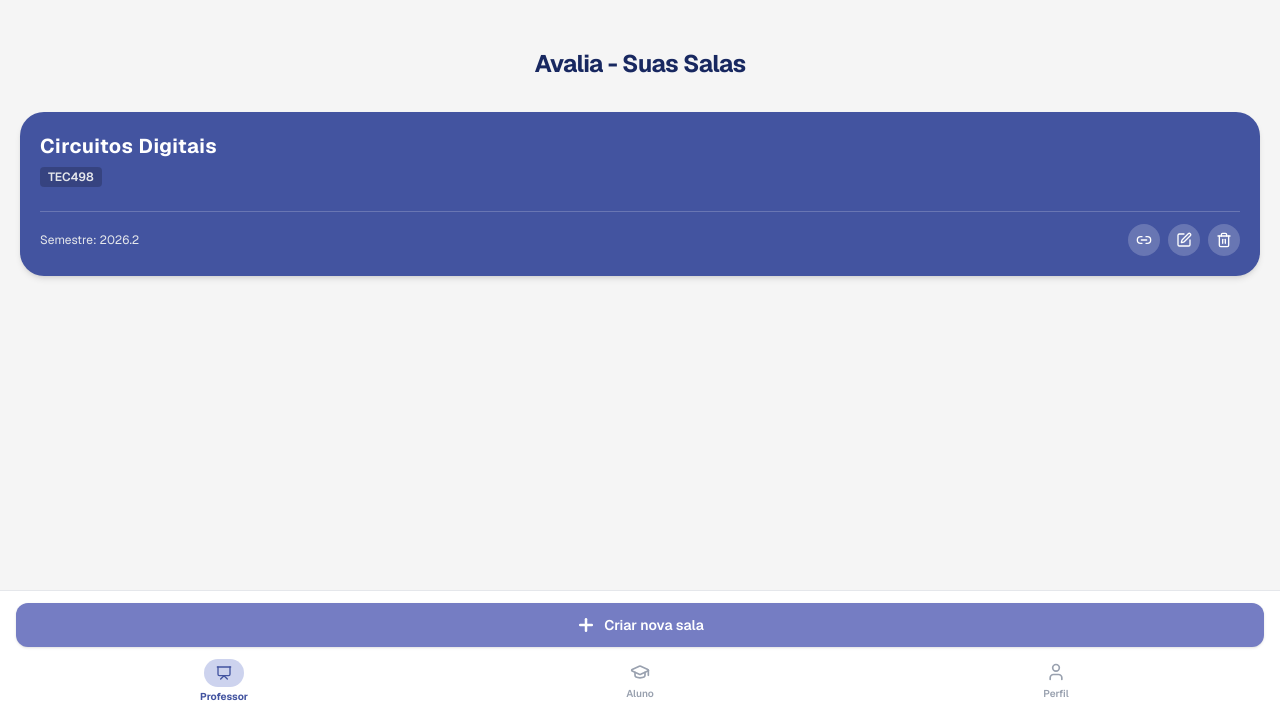
[US03] Rooms page integration › should PUT the new name to the room's route and show it in the list
Expected: the heading "Circuitos Digitais" is shown, top-left (40, 133), bottom-right (217, 159)
Click the button named "editar" at (1184, 240), box top-left (1168, 224), bottom-right (1200, 256)
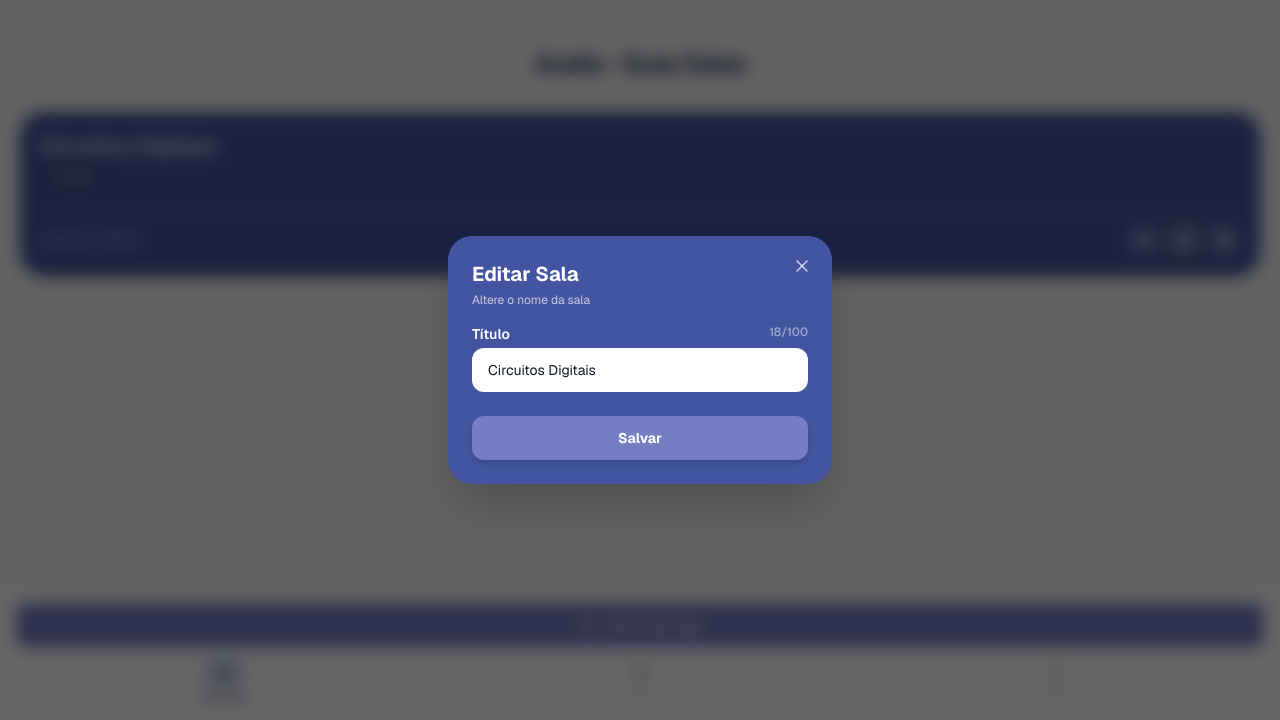
Replace the text in the field named "Nome da sala" with "Updated Module" at (640, 370), box top-left (472, 348), bottom-right (808, 392)
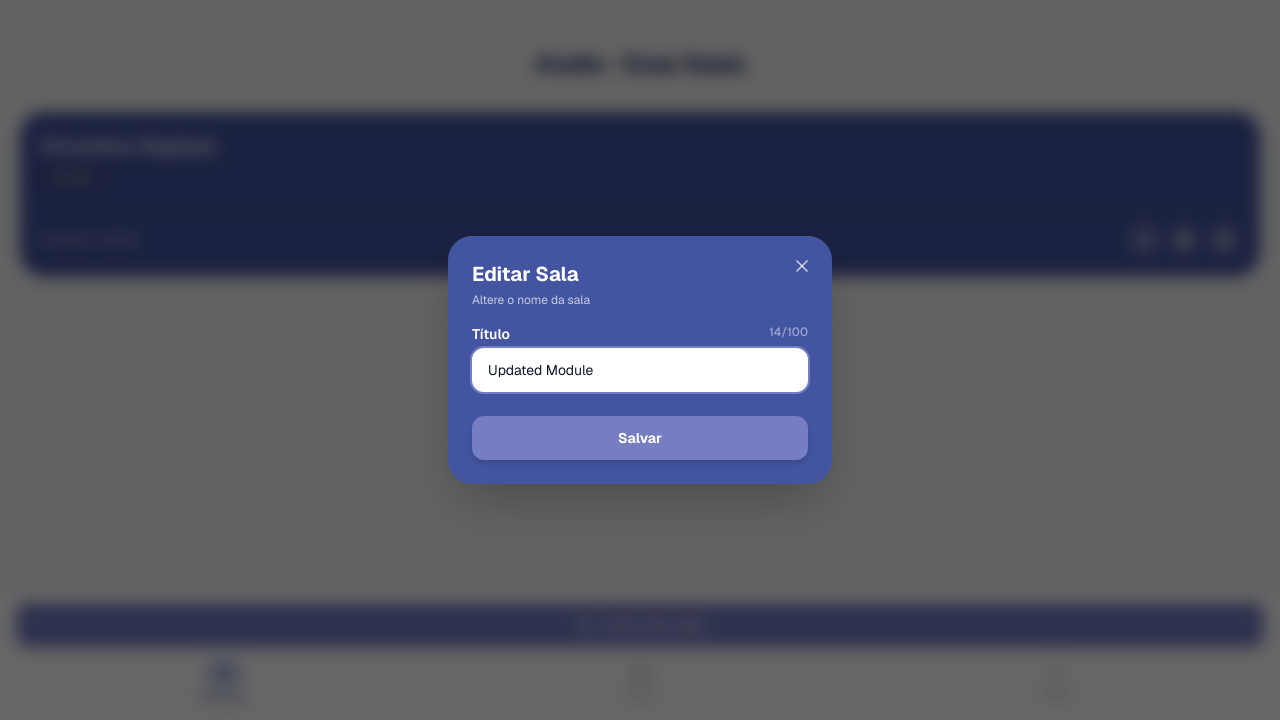
Click the button "Salvar" at (640, 438), box top-left (472, 416), bottom-right (808, 460)
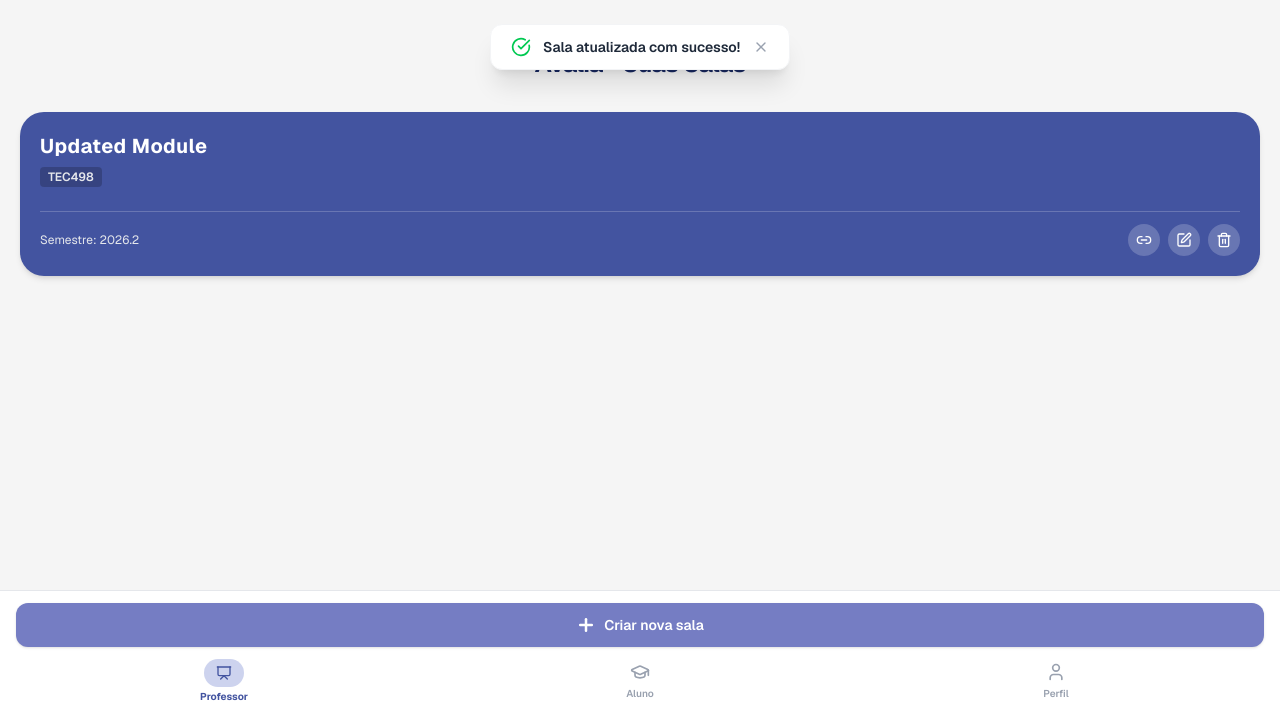
Result: the heading "Updated Module" is shown at top-left (40, 133), bottom-right (208, 159)
